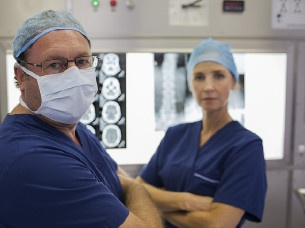Mask: (32, 48, 105, 121)
